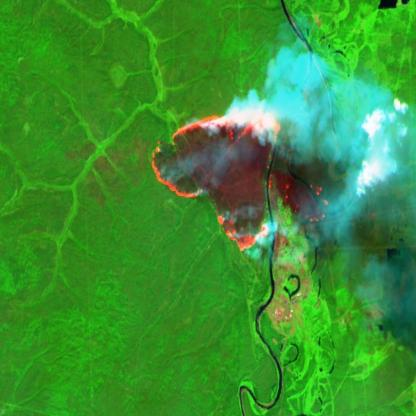fire: (141, 105, 332, 255)
